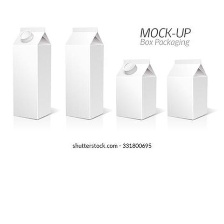carton: (61, 23, 107, 119), (10, 23, 55, 115), (112, 56, 162, 123), (164, 55, 211, 126)
